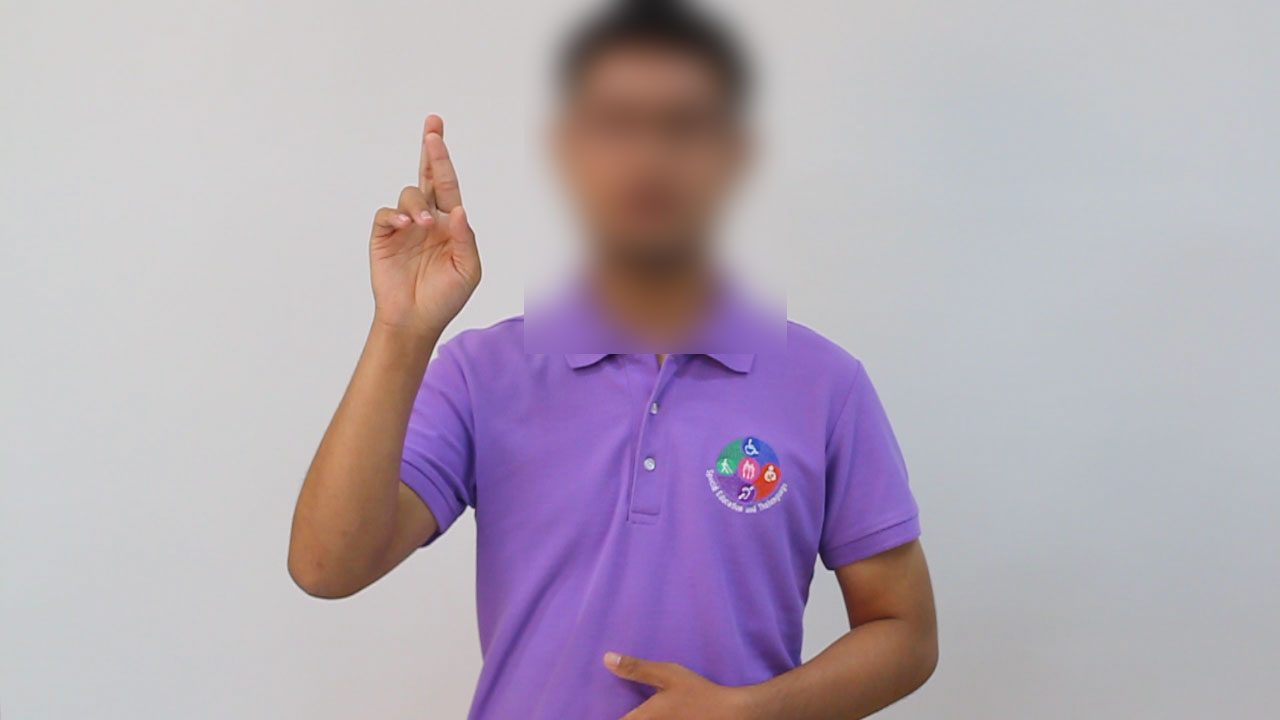rao: (346, 109, 489, 372)
